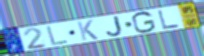2: (23, 27, 49, 51)
G: (131, 10, 158, 34)
J: (105, 15, 124, 37)
K: (76, 19, 100, 42)
L: (46, 25, 70, 47), (157, 9, 181, 30)
